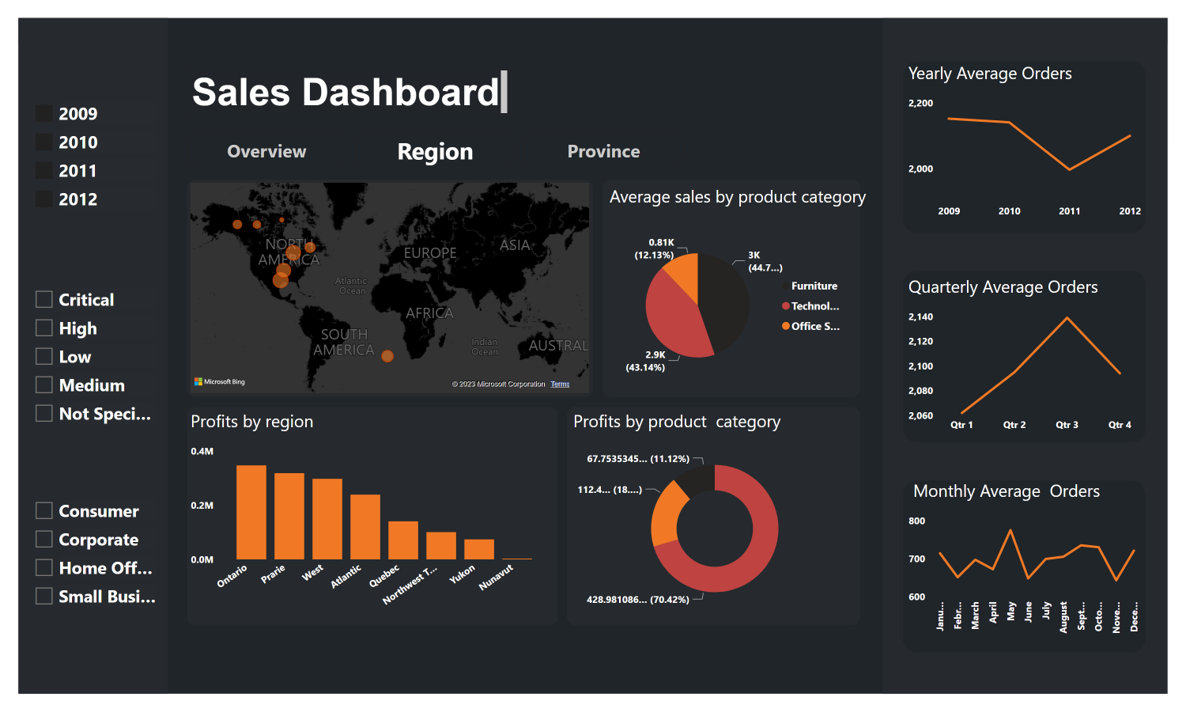

The page's visual inventory and layout, read from the dashboard file:
{"tool":"powerbi","page":{"name":"Region","canvas":[1500,900],"ordinal":1},"visuals":[{"type":"textbox","box":[235.7,83.7,410.6,64.6],"z":0},{"type":"pageNavigator","box":[235.7,165.4,629.3,49.4],"z":1000},{"type":"slicer","fields":{"Values":["Table1_2.Order Date Corrected.Variation.Date Hierarchy.Year"]},"box":[32,120,170,166],"z":1001},{"type":"slicer","fields":{"Values":["Table1_2.Order Priority"]},"box":[32,355,170,198],"z":1002},{"type":"slicer","fields":{"Values":["Table1_2.Customer Segment"]},"box":[32,622,170,158],"z":1003},{"type":"lineChart","fields":{"Category":["Table1_2.Order Date Corrected.Variation.Date Hierarchy.Quarter"],"Y":["CountNonNull(Table1_2.Order ID)"]},"box":[1144.5,385.9,304.2,169.2],"z":1004},{"type":"textbox","box":[1144,342,304,44],"z":1005},{"type":"lineChart","fields":{"Category":["Table1_2.Order Date Corrected.Variation.Date Hierarchy.Month"],"Y":["CountNonNull(Table1_2.Order ID)"]},"box":[1144.5,644.5,304.2,169.2],"z":1006},{"type":"lineChart","fields":{"Category":["Table1_2.Order Date Corrected.Variation.Date Hierarchy.Year"],"Y":["CountNonNull(Table1_2.Order ID)"]},"box":[1144.5,116,304.2,169.2],"z":1007},{"type":"textbox","box":[1144,600,304,44],"z":1008},{"type":"textbox","box":[1144,72,304,44],"z":1009},{"type":"map","fields":{"Size":["CountNonNull(Table1_2.Order ID)"],"Category":["Table1_2.Region"]},"box":[236,226,514,276],"z":1010},{"type":"columnChart","fields":{"Category":["Table1_2.Region"],"Y":["Sum(Table1_2.Profit)"]},"box":[236,556,462,224],"z":1011},{"type":"donutChart","fields":{"Category":["Table1_2.Product Category"],"Y":["Avg(Table1_2.Profit)"]},"box":[724,556,360,224],"z":1012},{"type":"pieChart","fields":{"Y":["Avg(Table1_2.Sales)"],"Category":["Table1_2.Product Category"]},"box":[772,270,312,232],"z":1013},{"type":"textbox","box":[236,512,348,44],"z":1015},{"type":"textbox","box":[766,228,348,44],"z":1016},{"type":"textbox","box":[720,512,366,44],"z":1017}]}

Visuals, with their boxes in screenshot pixels (x1, y1, x2, y2), scaled from the page's 1500x900 canvas onto the 1186x720 screenshot:
textbox: locate(186, 67, 511, 119)
pageNavigator: locate(186, 132, 684, 172)
slicer - Table1_2.Order Date Corrected.Variation.Date Hierarchy.Year: locate(25, 96, 160, 229)
slicer - Table1_2.Order Priority: locate(25, 284, 160, 442)
slicer - Table1_2.Customer Segment: locate(25, 498, 160, 624)
lineChart - Table1_2.Order Date Corrected.Variation.Date Hierarchy.Quarter x CountNonNull(Table1_2.Order ID): locate(905, 309, 1145, 444)
textbox: locate(905, 274, 1145, 309)
lineChart - Table1_2.Order Date Corrected.Variation.Date Hierarchy.Month x CountNonNull(Table1_2.Order ID): locate(905, 516, 1145, 651)
lineChart - Table1_2.Order Date Corrected.Variation.Date Hierarchy.Year x CountNonNull(Table1_2.Order ID): locate(905, 93, 1145, 228)
textbox: locate(905, 480, 1145, 515)
textbox: locate(905, 58, 1145, 93)
map - CountNonNull(Table1_2.Order ID) x Table1_2.Region: locate(187, 181, 593, 402)
columnChart - Table1_2.Region x Sum(Table1_2.Profit): locate(187, 445, 552, 624)
donutChart - Table1_2.Product Category x Avg(Table1_2.Profit): locate(572, 445, 857, 624)
pieChart - Avg(Table1_2.Sales) x Table1_2.Product Category: locate(610, 216, 857, 402)
textbox: locate(187, 410, 462, 445)
textbox: locate(606, 182, 881, 218)
textbox: locate(569, 410, 859, 445)
